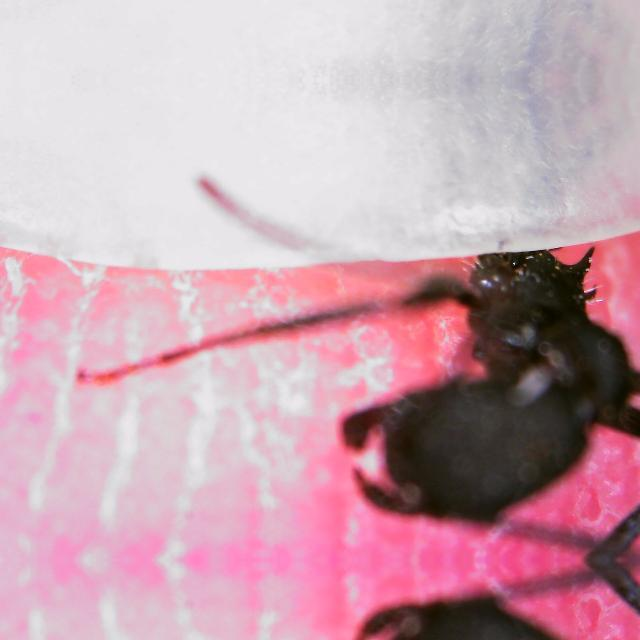Apheanogaster: (217, 145, 639, 560)
